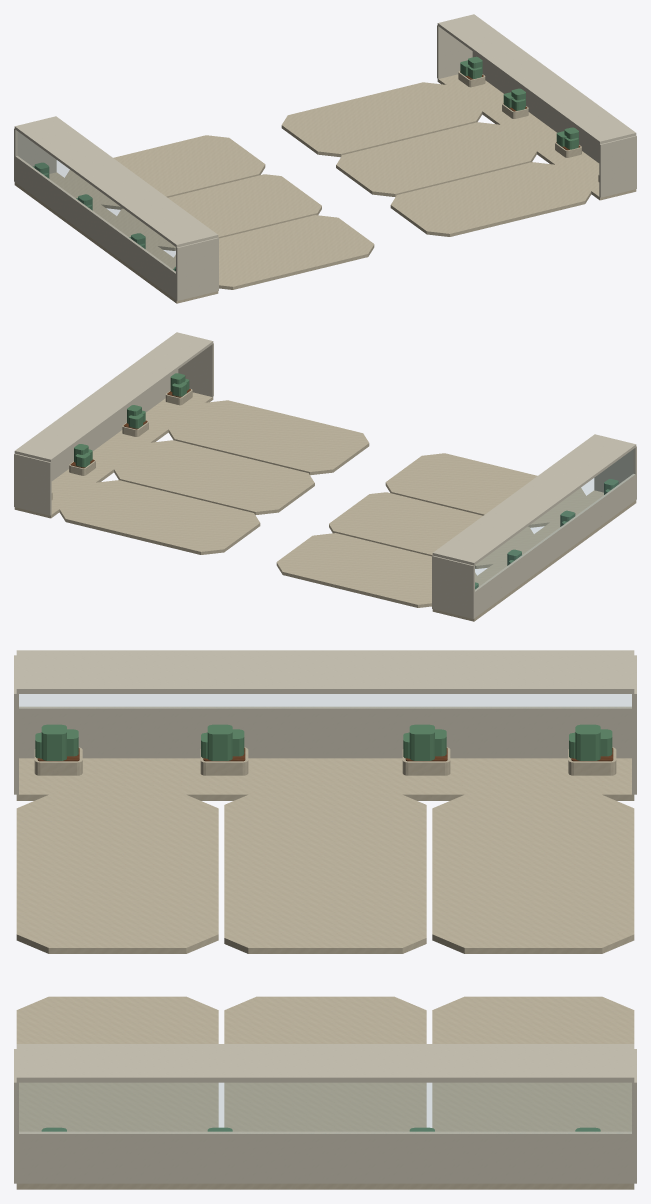
File: D04_PORT_FORWARD_HOMES_FIFTH_RECEIVING_r001.glb
The picture shows the model from 3 angles, top to bottom: view 1: azimuth 30°, elevation 25°; view 2: azimuth 150°, elevation 25°; view 3: azimuth 270°, elevation 25°; orthographic projection. The views are drawn at different scales.
Visible parts, largest first — view 1: D04H994_Floor, D04H946_Floor, D04H970_Floor, D04H982_Floor, D04HC5_west_Roof, D04H958_Floor, D04HC5_east_Roof, D04H934_Floor, D04HC5_west_PrivacyScreen, D04HC5_east_Floor, D04HC5_west_GlassUpper, D04HC5_west_End_1 (+5 smaller); view 2: D04H946_Floor, D04H994_Floor, D04H970_Floor, D04H934_Floor, D04HC5_west_Roof, D04H958_Floor, D04HC5_east_Roof, D04H982_Floor, D04HC5_west_PrivacyScreen, D04HC5_west_GlassUpper, D04HC5_east_Floor, D04HC5_west_End_0 (+5 smaller); view 3: D04HC5_east_PrivacyScreen, D04H958_Floor, D04H934_Floor, D04H982_Floor, D04HC5_east_GlassUpper, D04HC5_west_Roof, D04HC5_west_PrivacyScreen, D04HC5_east_Roof, D04HC5_west_Floor, D04H970_Floor, D04H946_Floor, D04H994_Floor (+10 smaller).
Boxes of the visible parts, x1,y1,x2,y2 form: D04H994_Floor: (390,162,591,236); D04H946_Floor: (281,82,482,157); D04H970_Floor: (336,122,536,197); D04H982_Floor: (174,215,374,289); D04HC5_west_Roof: (14,116,218,247); D04H958_Floor: (117,174,321,250); D04HC5_east_Roof: (437,14,636,144); D04H934_Floor: (65,135,265,209); D04HC5_west_PrivacyScreen: (14,156,176,299); D04HC5_east_Floor: (437,74,636,200); D04HC5_west_GlassUpper: (17,132,175,271); D04HC5_west_End_1: (176,237,218,300); D04H946_Floor: (59,480,260,554); D04H994_Floor: (168,400,369,475); D04H970_Floor: (114,440,314,515); D04H934_Floor: (276,533,476,607); D04HC5_west_Roof: (432,434,636,565); D04H958_Floor: (329,492,533,568); D04HC5_east_Roof: (14,332,213,462); D04H982_Floor: (385,453,585,527); D04HC5_west_PrivacyScreen: (474,474,635,617); D04HC5_west_GlassUpper: (475,450,634,590); D04HC5_east_Floor: (14,392,213,518); D04HC5_west_End_0: (432,555,474,618); D04HC5_east_PrivacyScreen: (16,1131,634,1183); D04H958_Floor: (224,794,426,953); D04H934_Floor: (432,794,634,953); D04H982_Floor: (16,794,218,953); D04HC5_east_GlassUpper: (19,1083,631,1133); D04HC5_west_Roof: (16,650,634,693); D04HC5_west_PrivacyScreen: (19,706,631,758); D04HC5_east_Roof: (16,1044,634,1082); D04HC5_west_Floor: (16,758,634,800); D04H970_Floor: (224,996,426,1131); D04H946_Floor: (432,996,634,1131); D04H994_Floor: (16,996,218,1131).
Size of the model in its own units: 36 by 4.4 by 22.18.
Materials: 5 (3 with a texture image).
